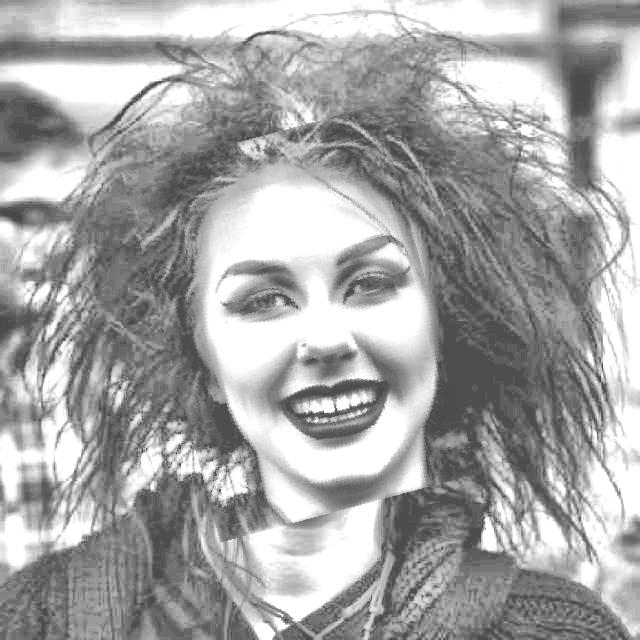happy: (145, 119, 455, 529)
